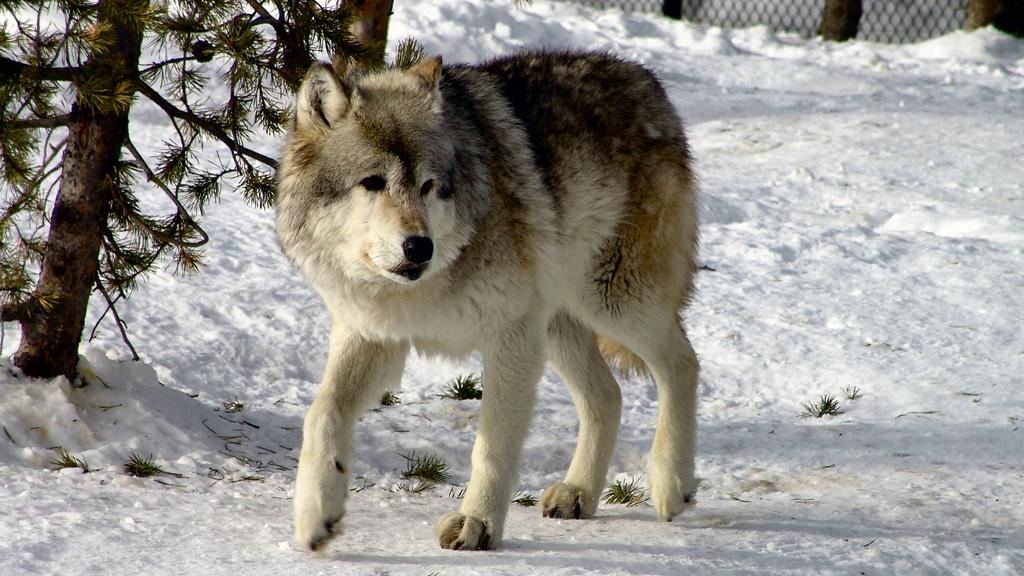Wolf: (281, 51, 708, 550)
